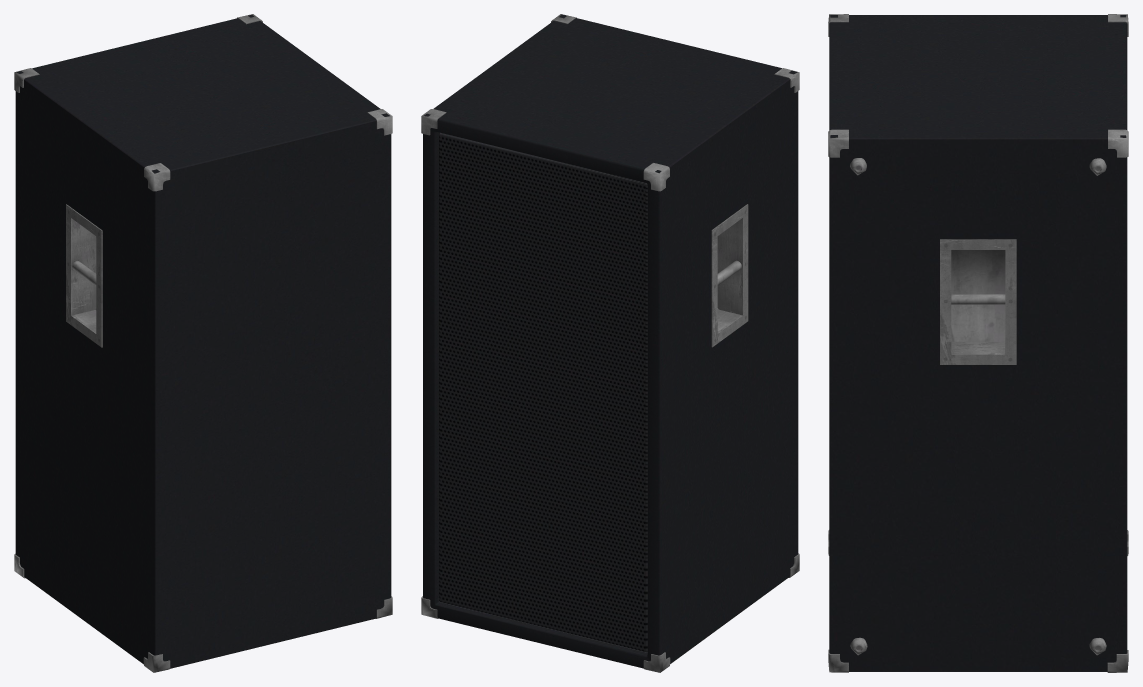
Rendered from Speakers03 (1).fbx.
3 renders of one model, left to right at view 1: azimuth 30°, elevation 25°; view 2: azimuth 150°, elevation 25°; view 3: azimuth 270°, elevation 25°, orthographic. The views are drawn at different scales.
Visible parts, largest first — view 1: Speakers03 (1); view 2: Speakers03 (1); view 3: Speakers03 (1).
Part boxes in pixels (<box>): Speakers03 (1): <box>14,14,392,672</box>; Speakers03 (1): <box>421,14,799,672</box>; Speakers03 (1): <box>828,14,1128,672</box>.
Size of the model in its own units: 0.6406 by 0.6357 by 1.26.
